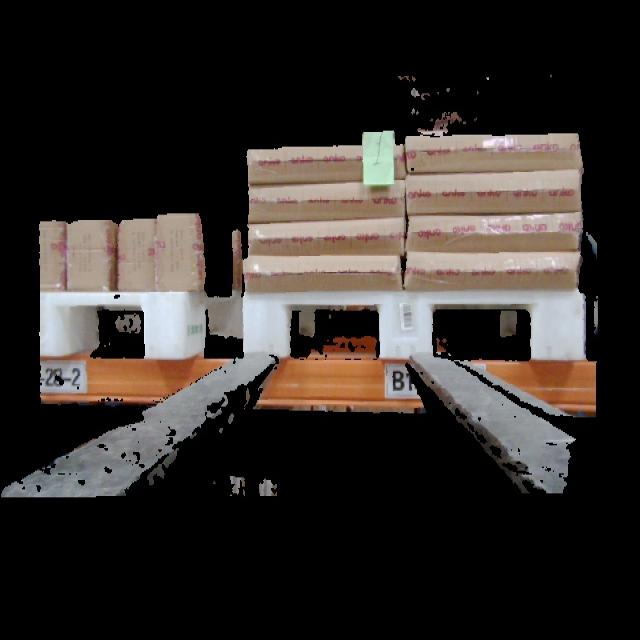block: (374, 292, 438, 360), (528, 299, 590, 362), (242, 298, 294, 358), (142, 291, 188, 358)
front: (243, 291, 587, 366)
